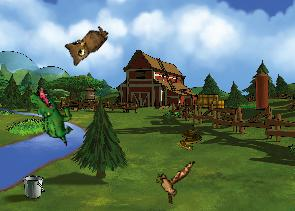crocodile: (17, 83, 86, 147)
eagle: (151, 154, 195, 207)
owl: (59, 16, 110, 69)
